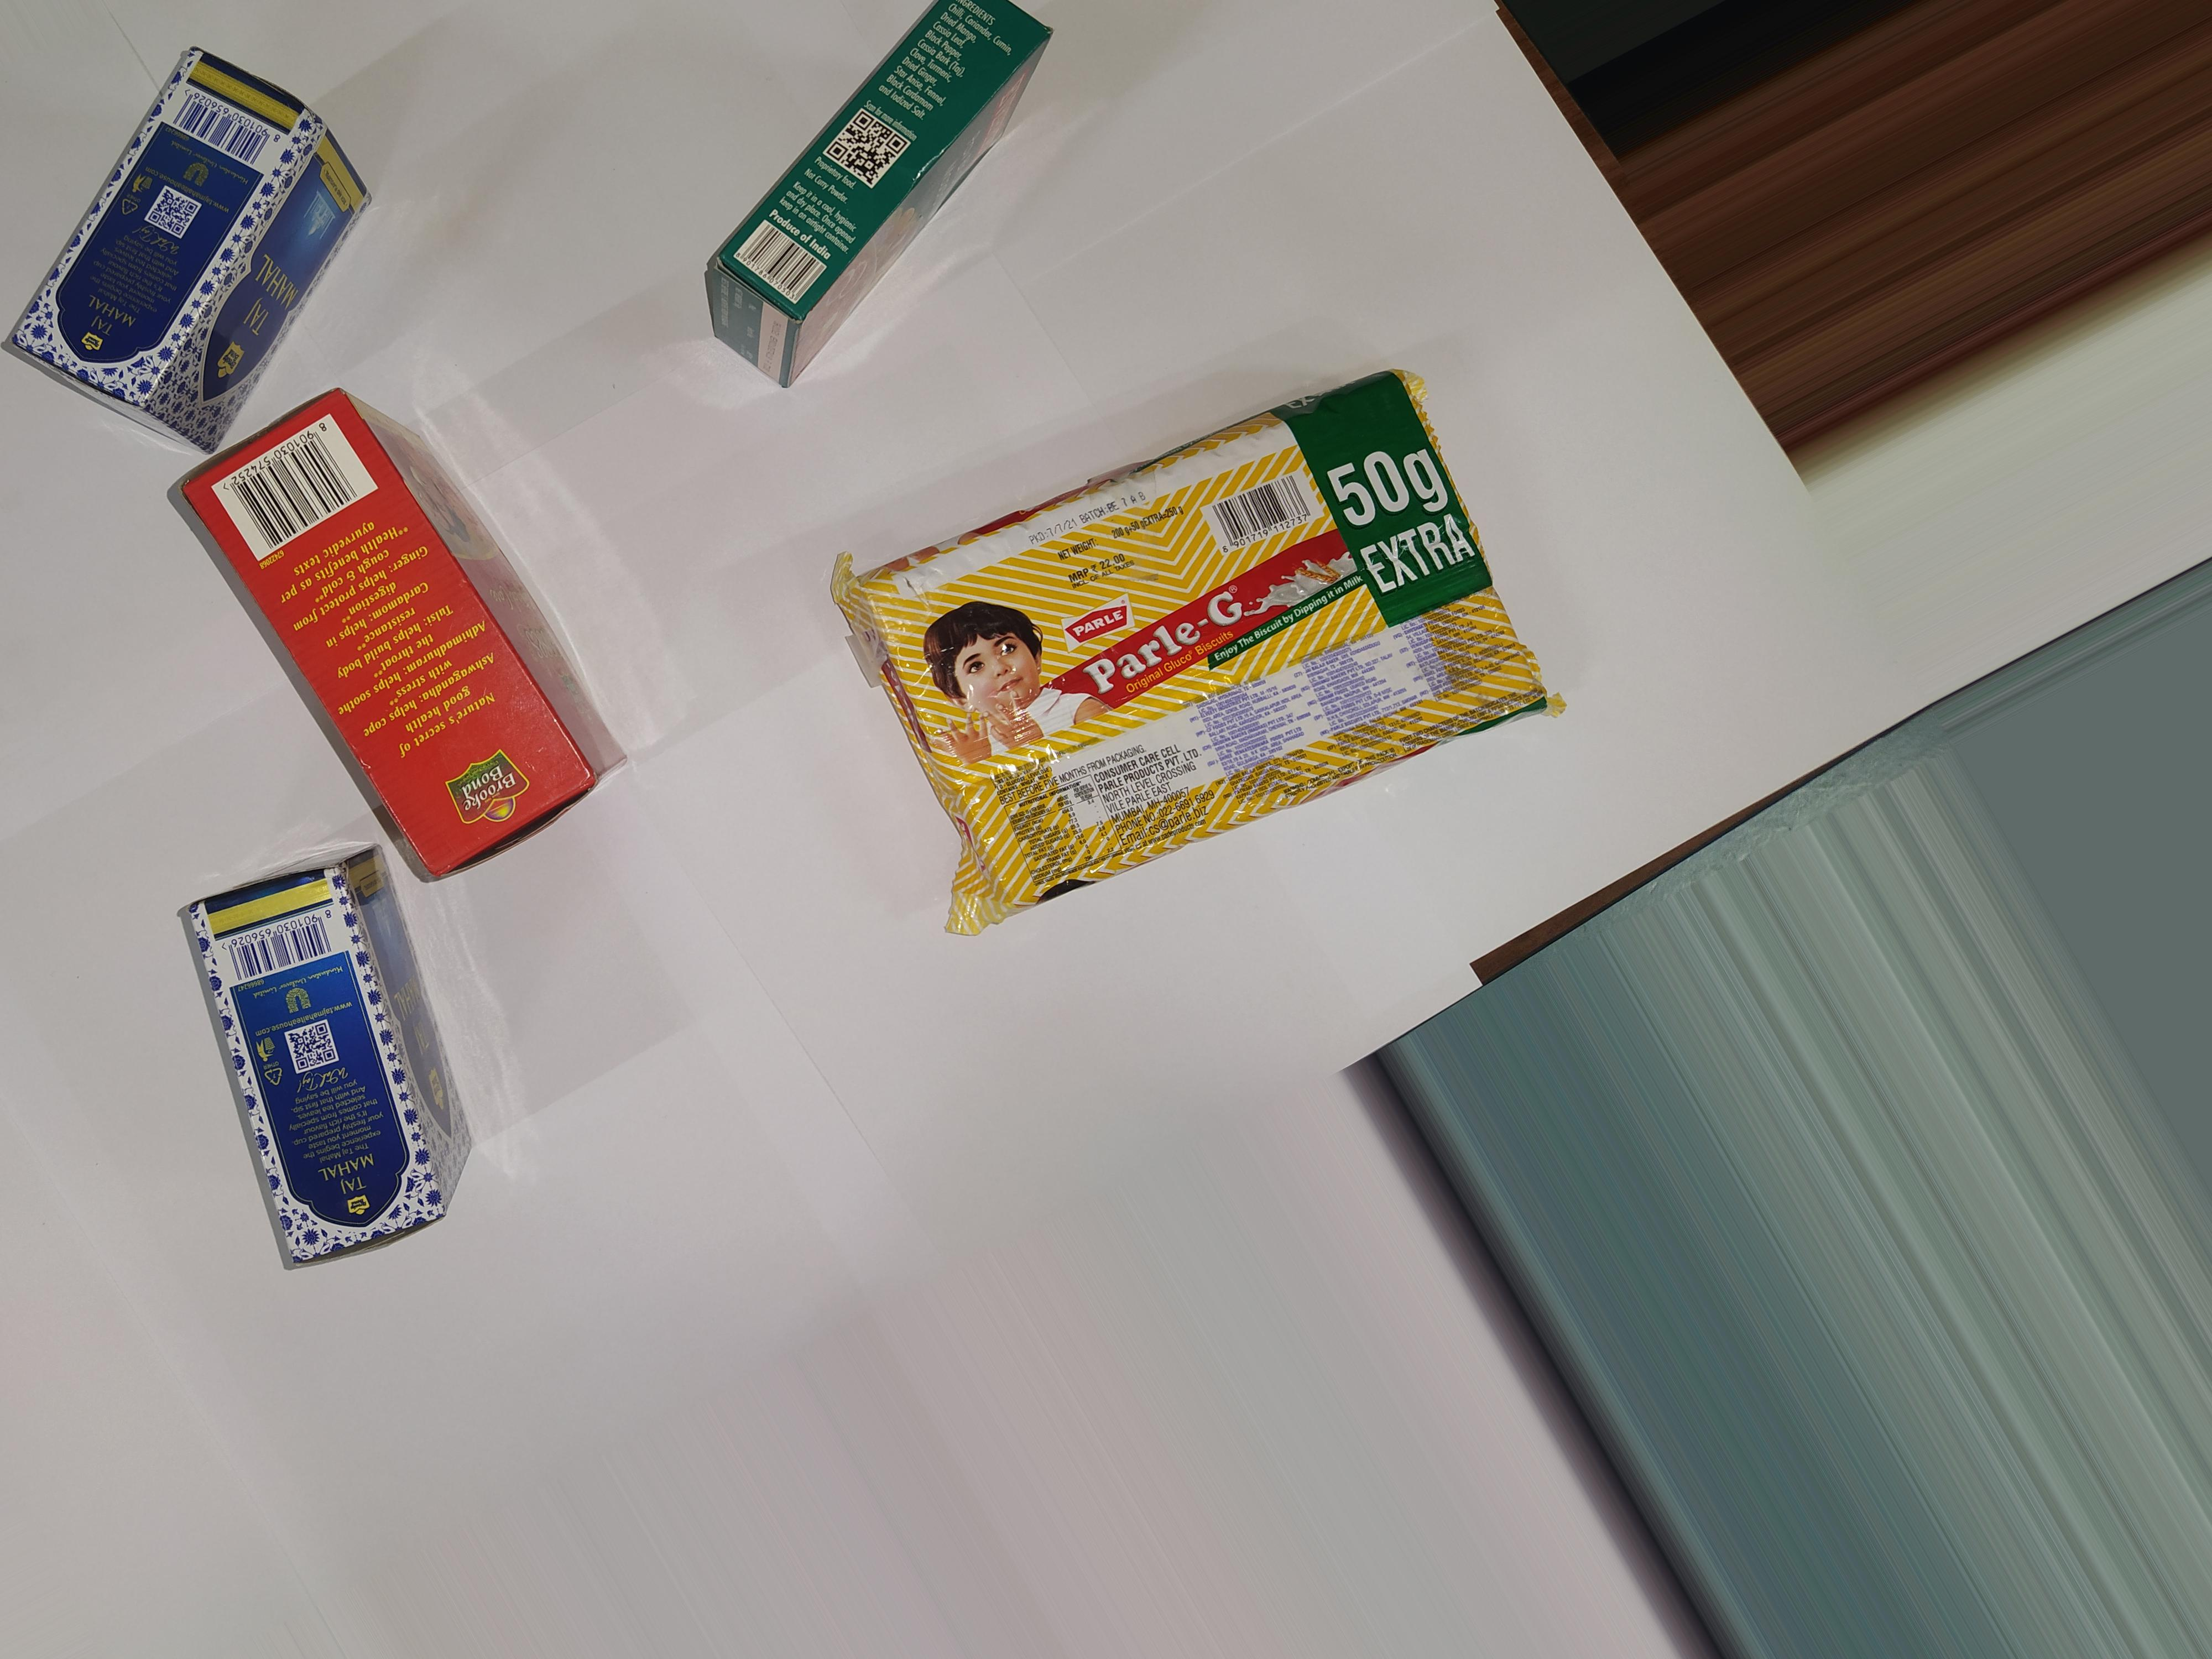Bar_code: (199, 420, 408, 577), (1205, 467, 1339, 556), (157, 85, 280, 181), (721, 221, 833, 312), (206, 915, 343, 974)
Item: (792, 420, 1597, 932), (153, 383, 660, 890), (157, 861, 517, 1309), (21, 23, 368, 436), (714, 9, 1052, 418)
QR_code: (819, 92, 916, 204), (261, 1021, 347, 1073)
